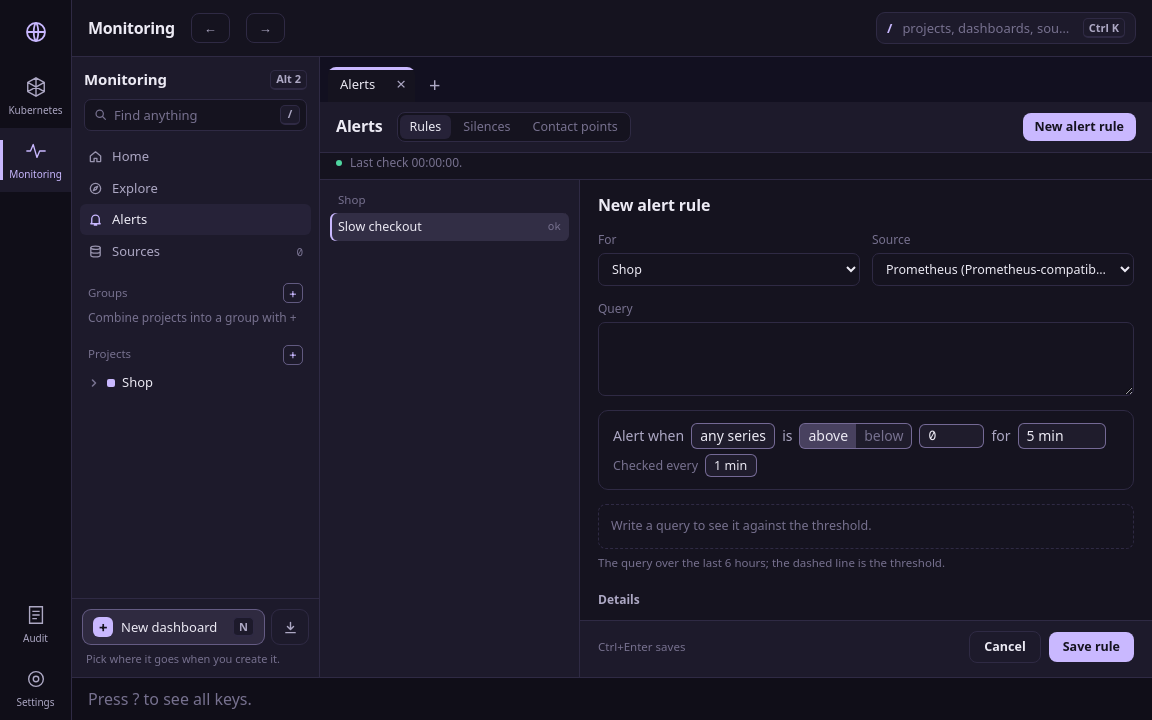
Test: leaving an alert rule being written › the sidebar asks first, and Stay keeps the form
This screenshot has width=1152, height=720.
Earlier steps of the test are not shown.
Click the list item "Shop".
click(121, 382)  # box [89,373,153,391]
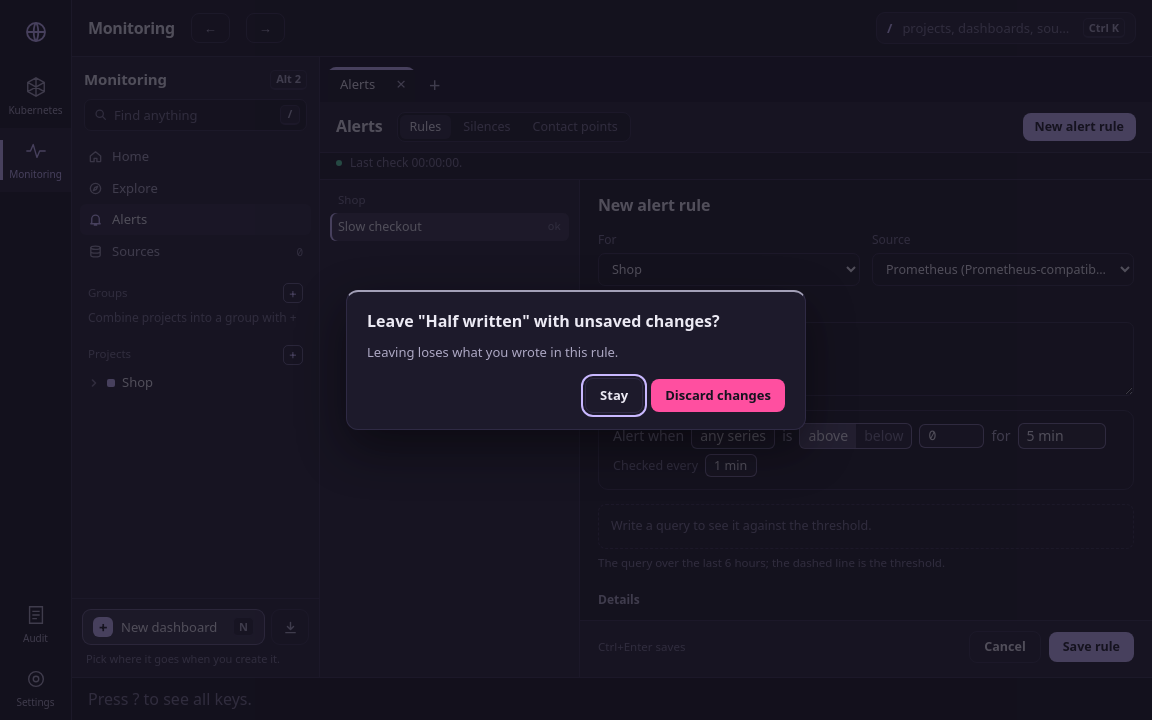
Now the text "Leaving loses what you wrote in this rule." is shown, box [367,343,618,361]
Now the buttons read "Stay", "Discard changes", in this order
Click the button "Stay".
click(614, 395)  # box [585,378,643,412]
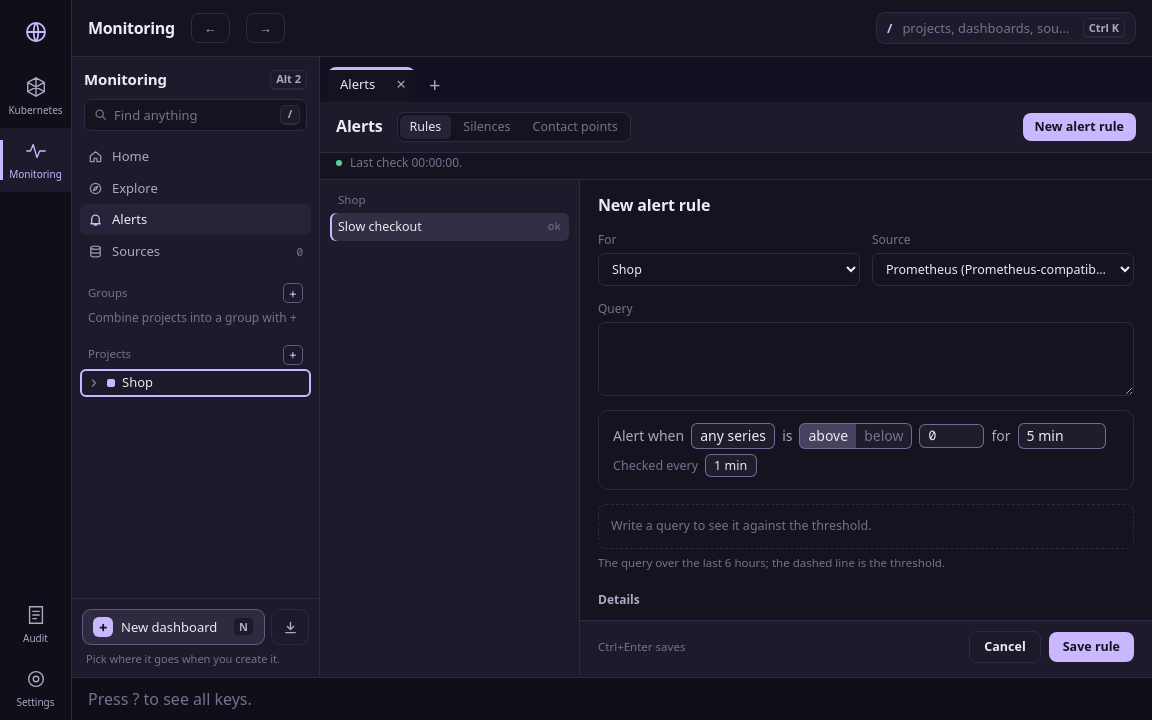
Click the list item "Shop".
click(121, 382)  # box [89,373,153,391]
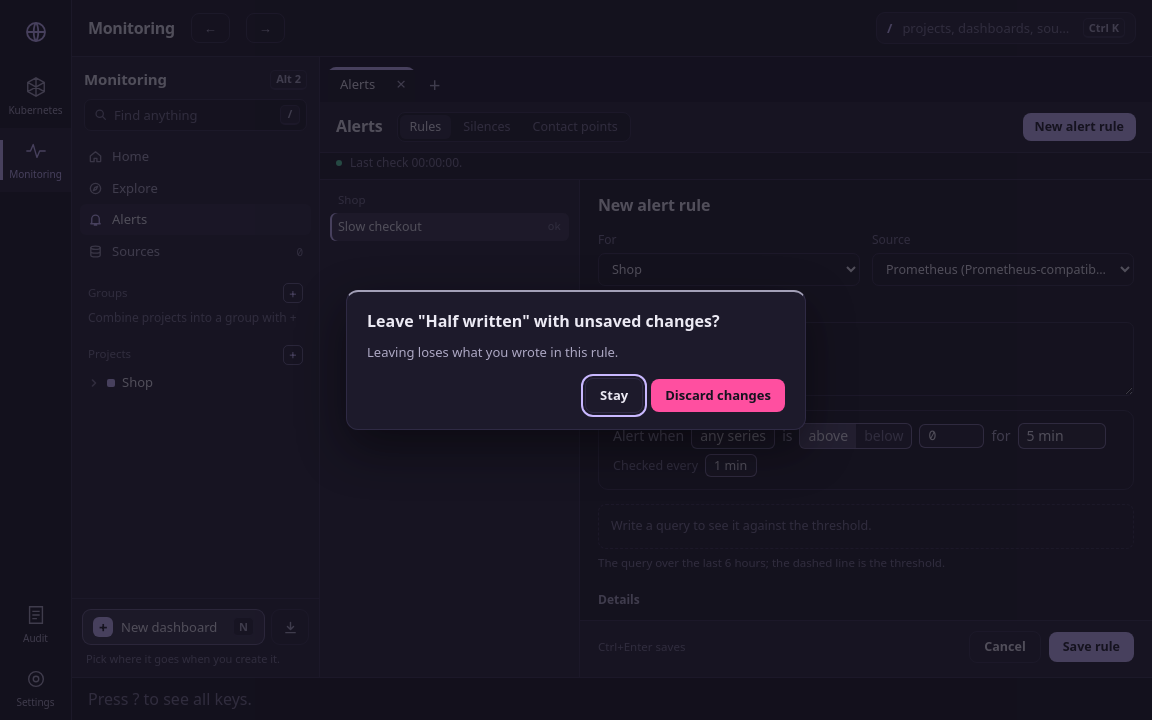
Click the button "Discard changes".
click(718, 395)  # box [651,379,785,412]
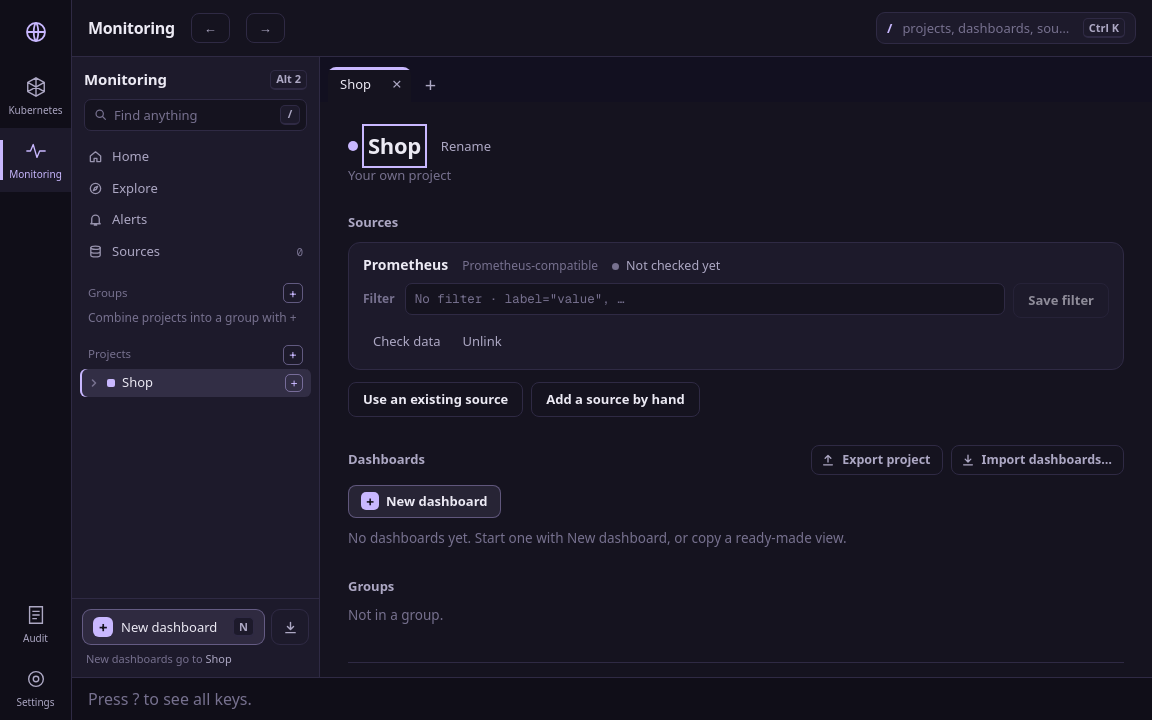
Now the heading "Shop" is shown, box [368,130,421,162]
